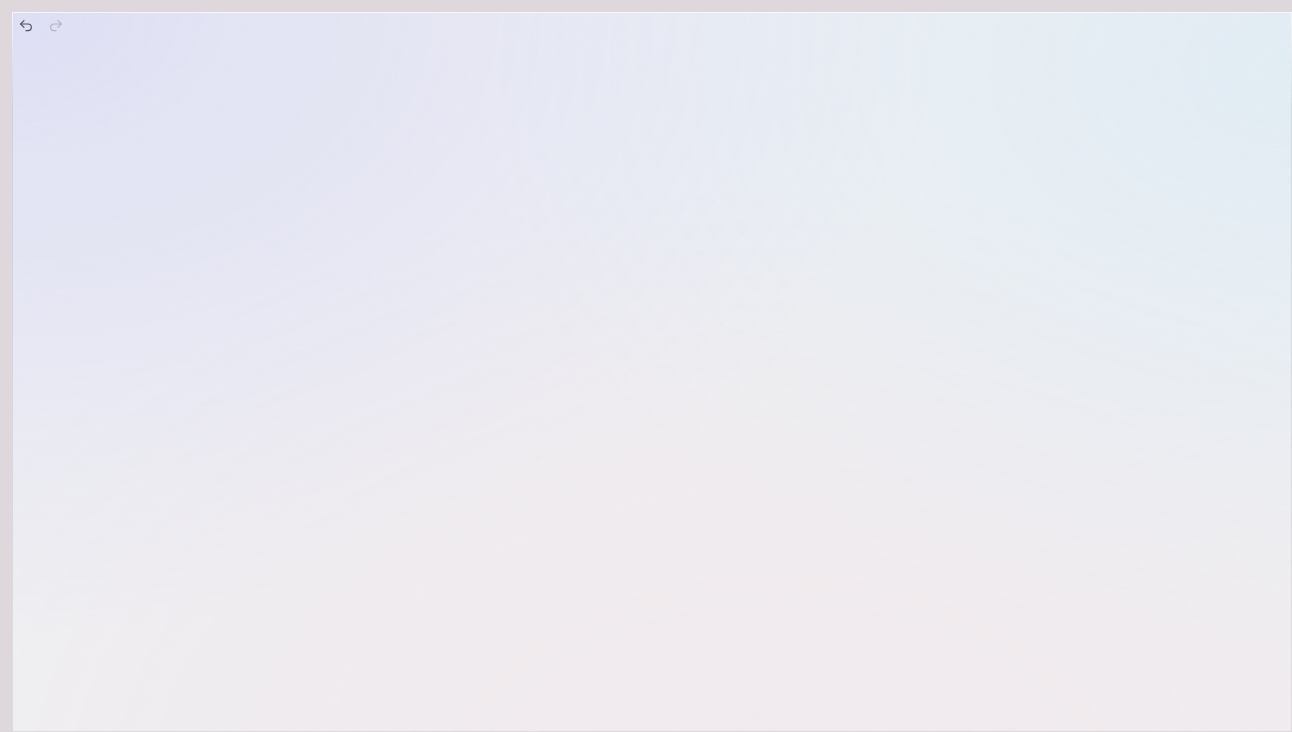
Test case: Undo takes back the last change, then Redo is offered
This screenshot has width=1292, height=732.
Expected: the button named "Nothing to redo" is disabled, [42,12,70,40]
What coordinates should you click on to do the following:
click the button named "Undo: Delete collection"
I would click on:
 (26, 26)
Its box is [12,12,40,40].
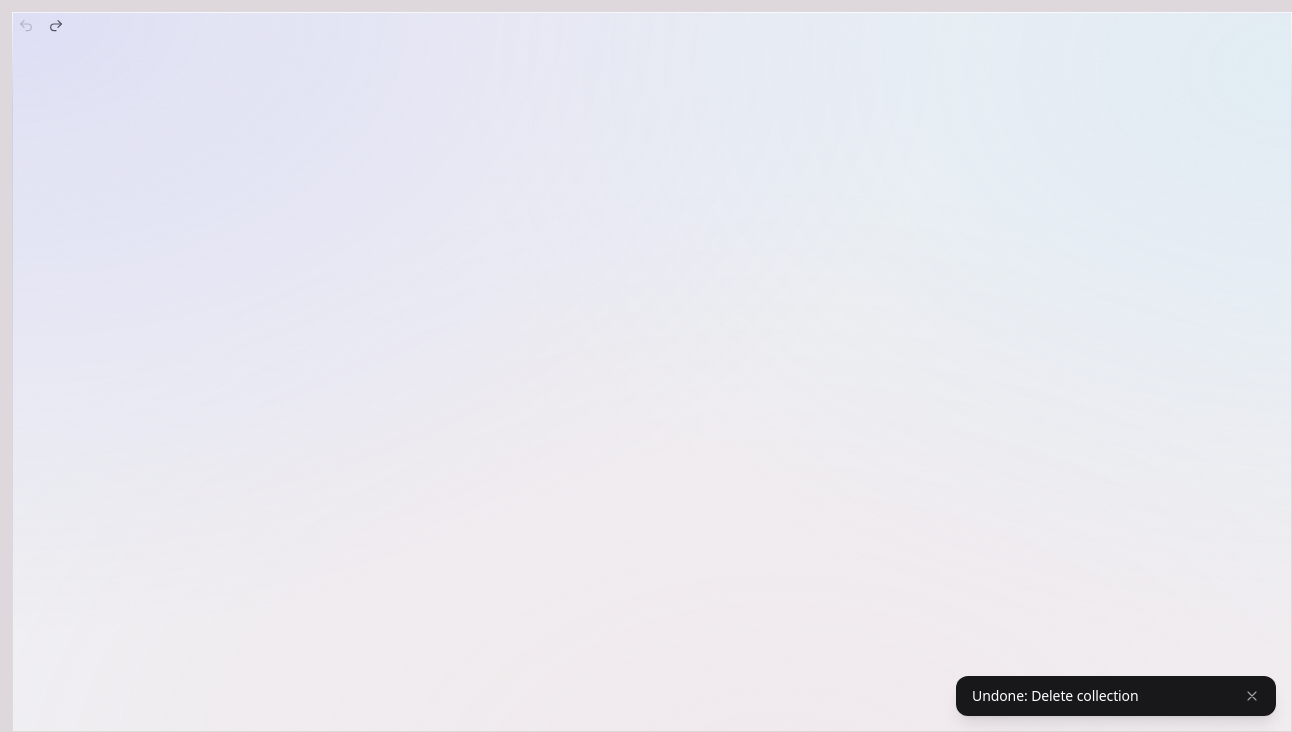
Now the text "Undone: Delete collection" is shown, box [972,686,1138,705]
Now the button named "Redo: Delete collection" is enabled, box [42,12,70,40]
Now the button named "Nothing to undo" is disabled, box [12,12,40,40]
